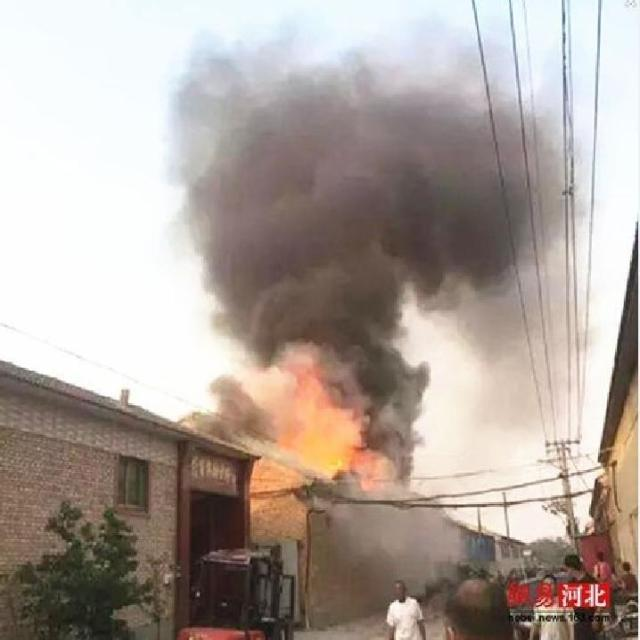Fire: (268, 370, 378, 490)
Smoke: (149, 28, 590, 490), (314, 469, 462, 606)
